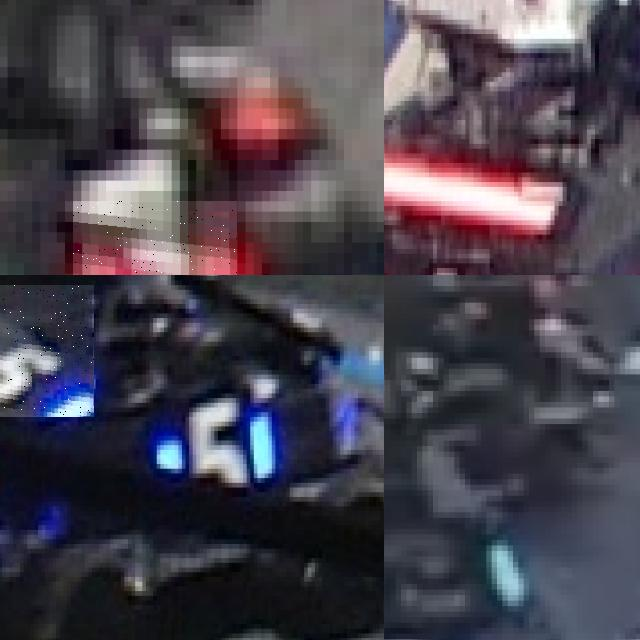B5: (144, 382, 281, 499), (0, 285, 93, 417)
R3: (73, 201, 237, 275)
